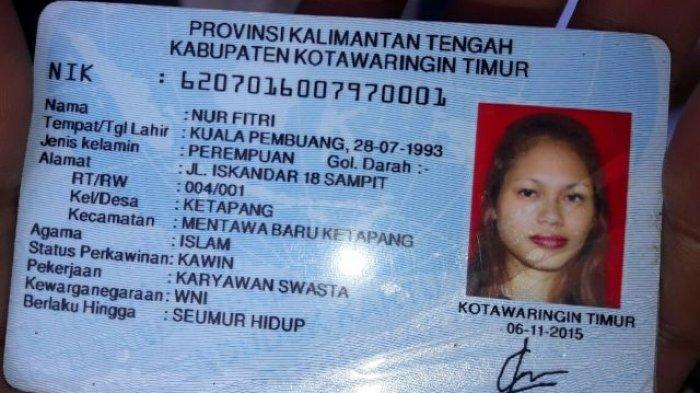ID-card: (1, 0, 668, 390)
